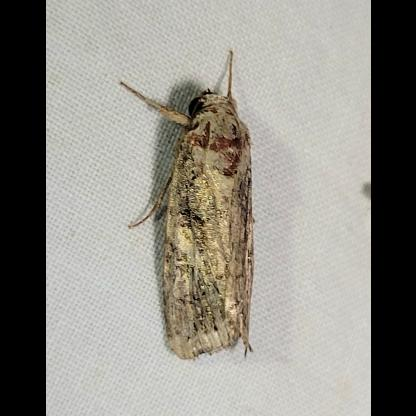Fall Armyworm Moth: (117, 46, 261, 366)
